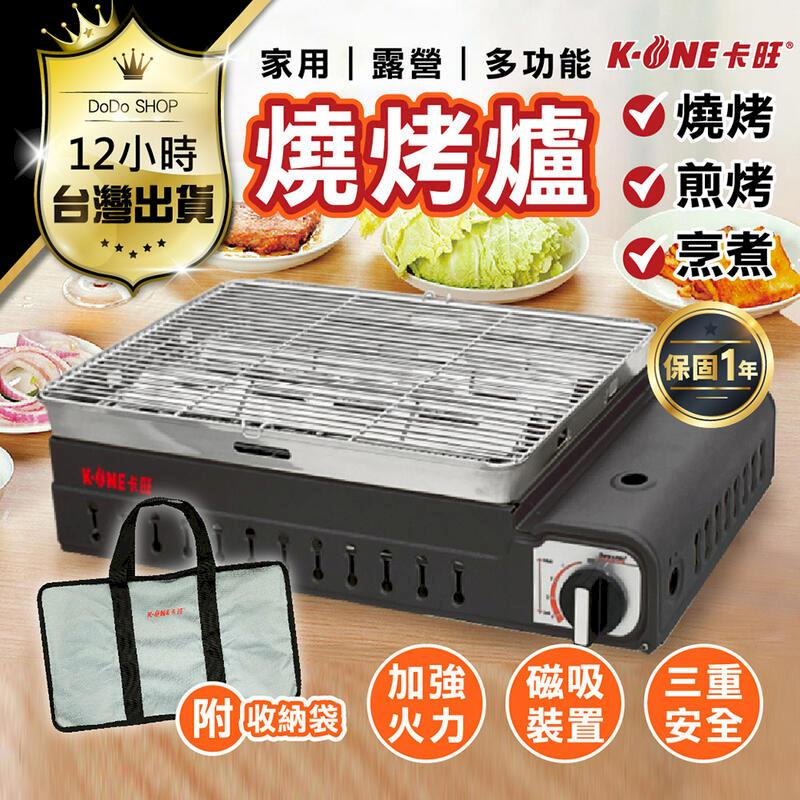gasoven: (29, 269, 779, 655)
